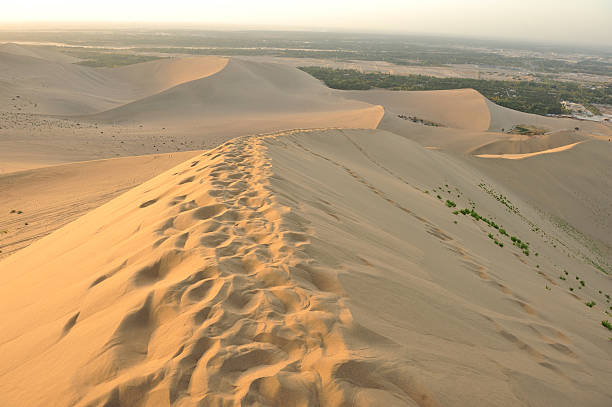human_footprint: (114, 130, 395, 401)
